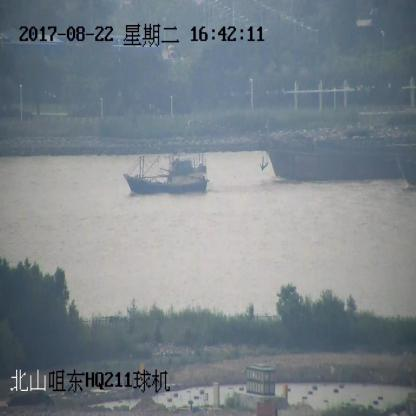Bulk Carrier: (188, 121, 415, 183)
